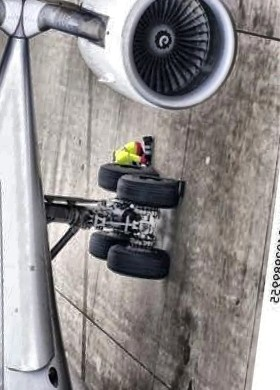chock: (173, 176, 187, 200)
wheel: (112, 170, 184, 210), (103, 241, 172, 282), (96, 160, 161, 197), (87, 228, 130, 261)
